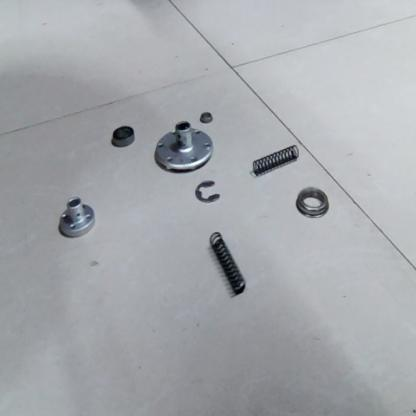FOD: (152, 122, 215, 175), (208, 228, 247, 297), (56, 194, 97, 242), (248, 143, 301, 178), (294, 186, 331, 218), (195, 176, 223, 205), (110, 123, 137, 148), (198, 108, 215, 125)
